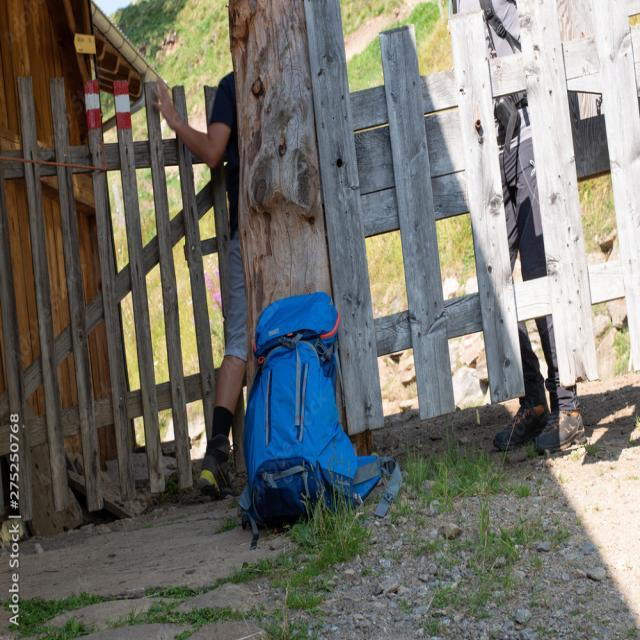Backpacks: (240, 286, 358, 524)
